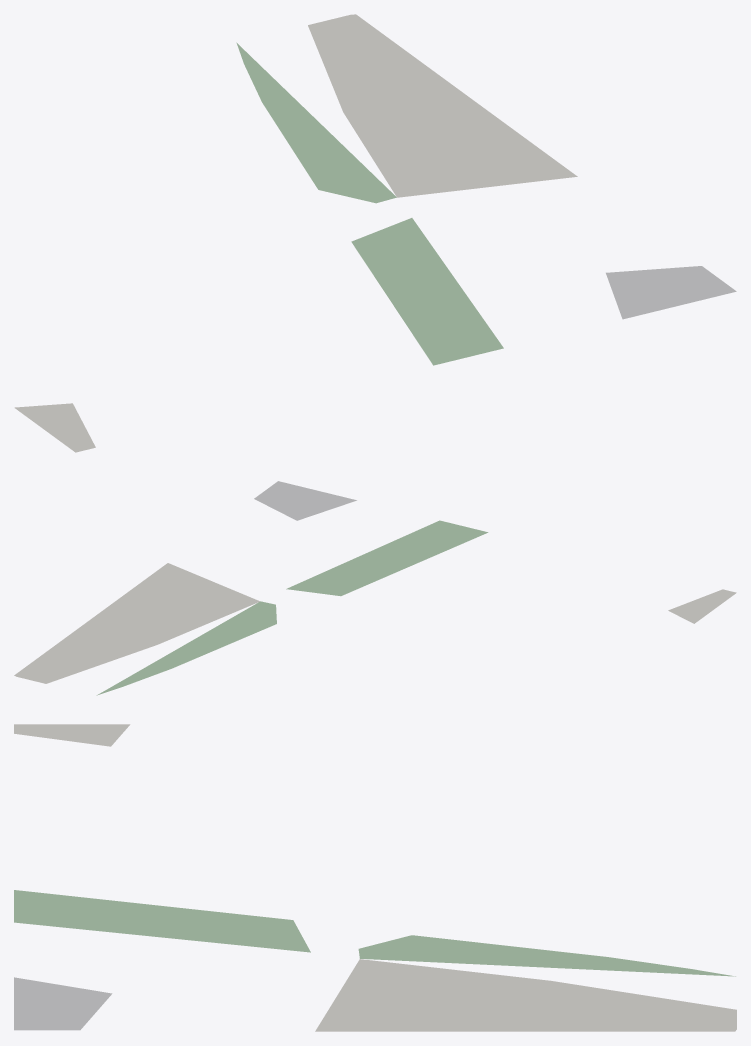
Rendered from 100_96_mid.glb.
3 views of the same model, one above another, from view 1: azimuth 30°, elevation 25°; view 2: azimuth 150°, elevation 25°; view 3: azimuth 270°, elevation 25° (orthographic). The views are drawn at different scales.
Size of the model in its own units: 500 by 1.36 by 500.
